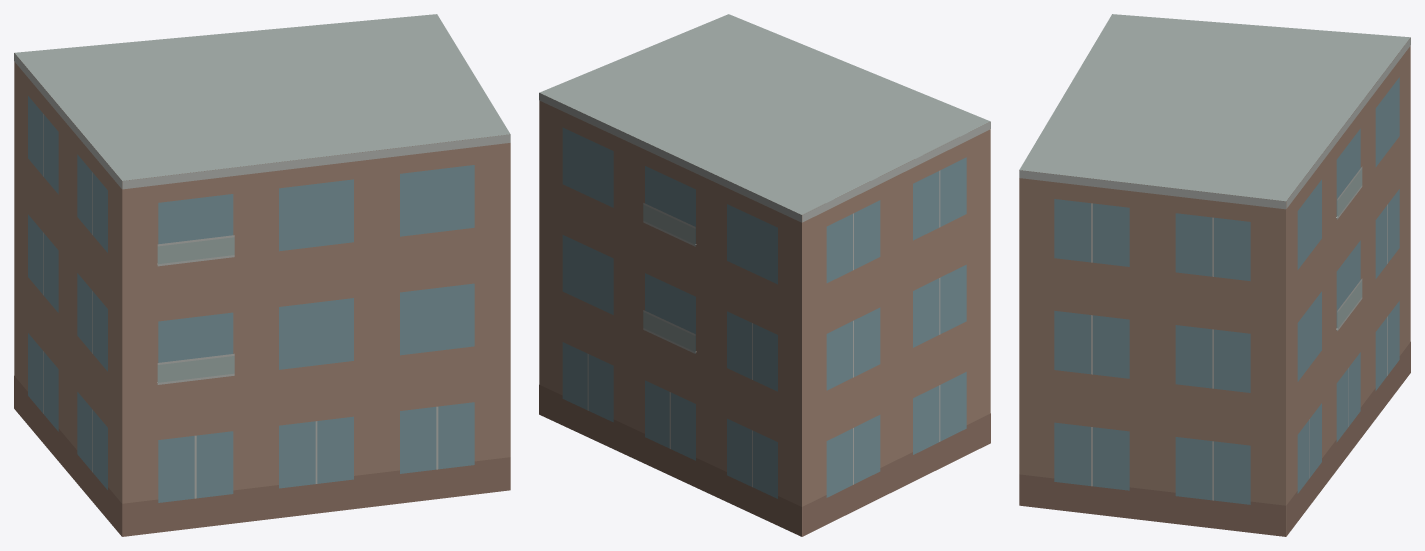
Rendered from survey-upis-32670277.glb.
The picture shows the model from 3 angles, left to right: view 1: azimuth 30°, elevation 25°; view 2: azimuth 150°, elevation 25°; view 3: azimuth 270°, elevation 25°; orthographic projection. The views are drawn at different scales.
Visible parts, largest first — view 1: survey-upis-32670277.tmp; view 2: survey-upis-32670277.tmp; view 3: survey-upis-32670277.tmp.
Boxes of the visible parts, x1,y1,x2,y2 form: survey-upis-32670277.tmp: [14, 14, 510, 536]; survey-upis-32670277.tmp: [539, 14, 990, 536]; survey-upis-32670277.tmp: [1019, 14, 1410, 536].
Bounding box in the file's own units: 12.22 × 10.2 × 10.8.
